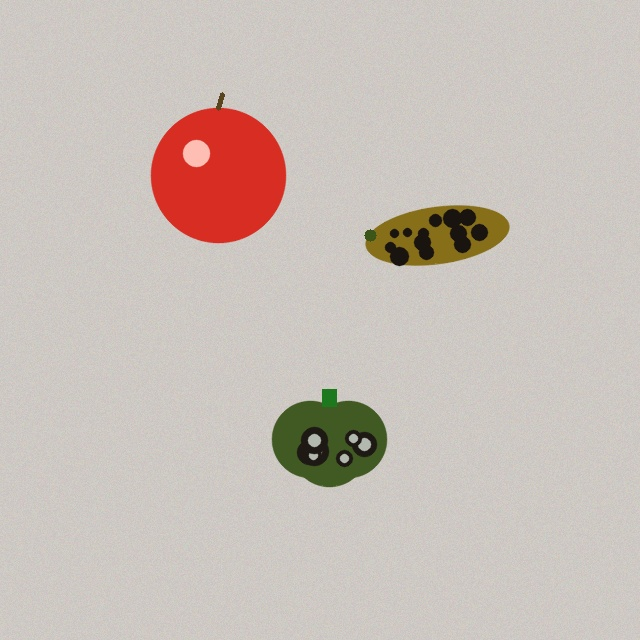Fresh apple: (151, 94, 285, 242)
Rotten banana: (362, 200, 512, 270)
Rotten bell pepper: (272, 389, 386, 486)
